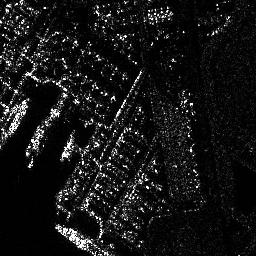ship: (50, 222, 87, 251), (8, 96, 29, 136)
